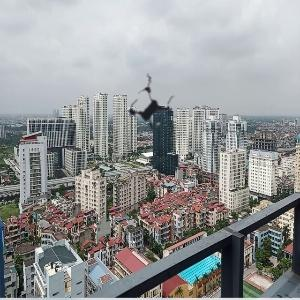drone: (103, 60, 204, 161)
